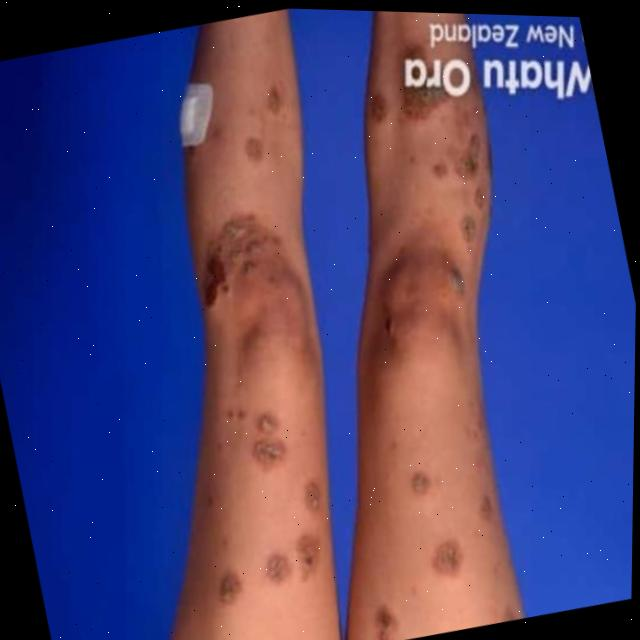Eczema: (327, 390, 522, 640), (185, 408, 341, 640), (367, 45, 512, 271), (199, 205, 304, 364), (239, 129, 279, 181), (262, 79, 293, 124)
